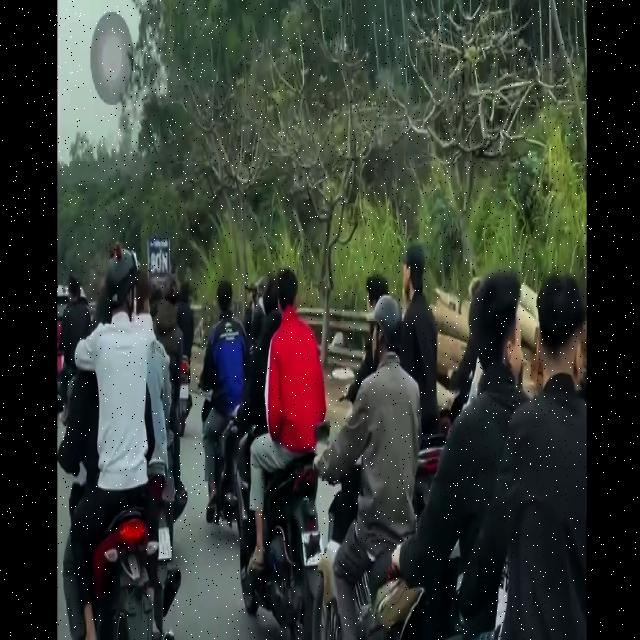helmet: (106, 241, 139, 338)
